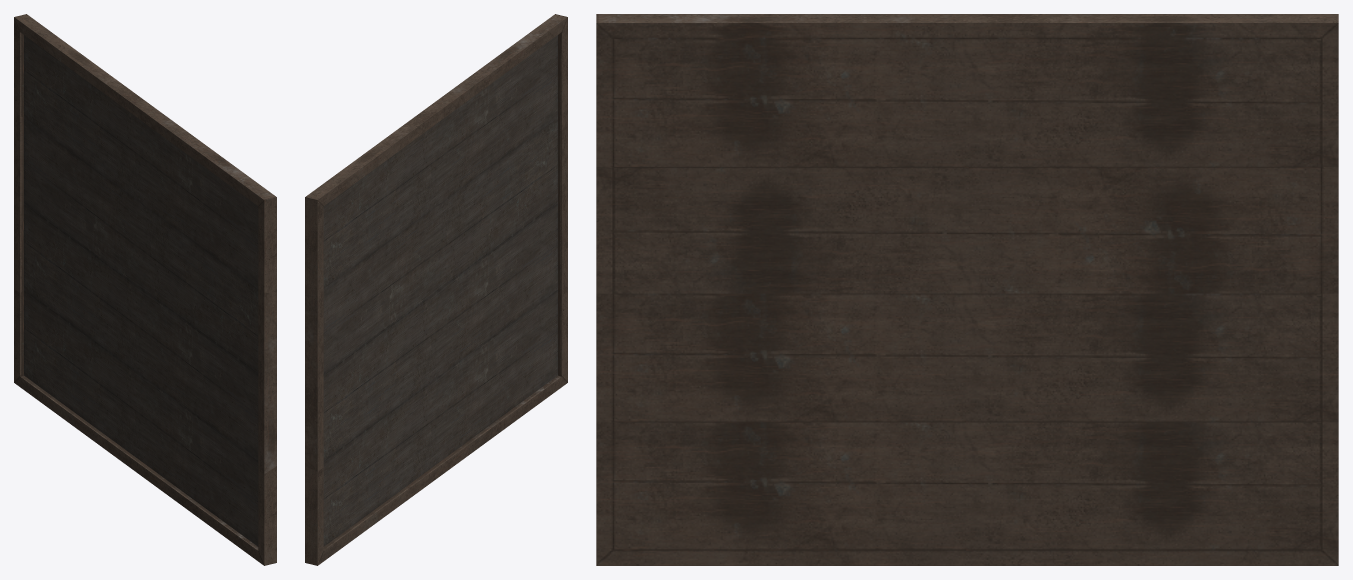
File: SM_signboard_05.fbx
3 views of the same model, side by side, from view 1: azimuth 30°, elevation 25°; view 2: azimuth 150°, elevation 25°; view 3: azimuth 270°, elevation 25° (orthographic). The views are drawn at different scales.
Parts seen in each view (by area): view 1: SM_signboard_05_LOD0; view 2: SM_signboard_05_LOD0; view 3: SM_signboard_05_LOD0.
Boxes of the visible parts, box(x1,y1,x2,y2) form: SM_signboard_05_LOD0: box(14, 14, 276, 565); SM_signboard_05_LOD0: box(305, 14, 567, 565); SM_signboard_05_LOD0: box(596, 14, 1338, 565).
Size of the model in its own units: 5.53 by 191 by 154.
1 material, 1 textured.
